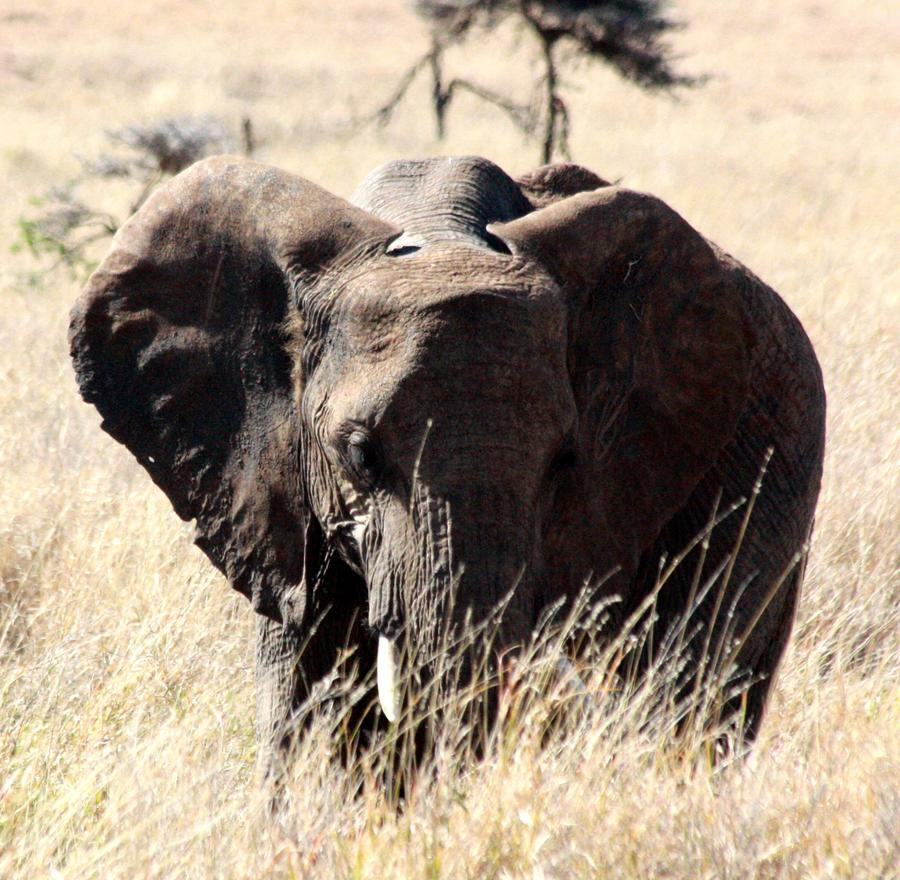elephant: (65, 138, 724, 705)
